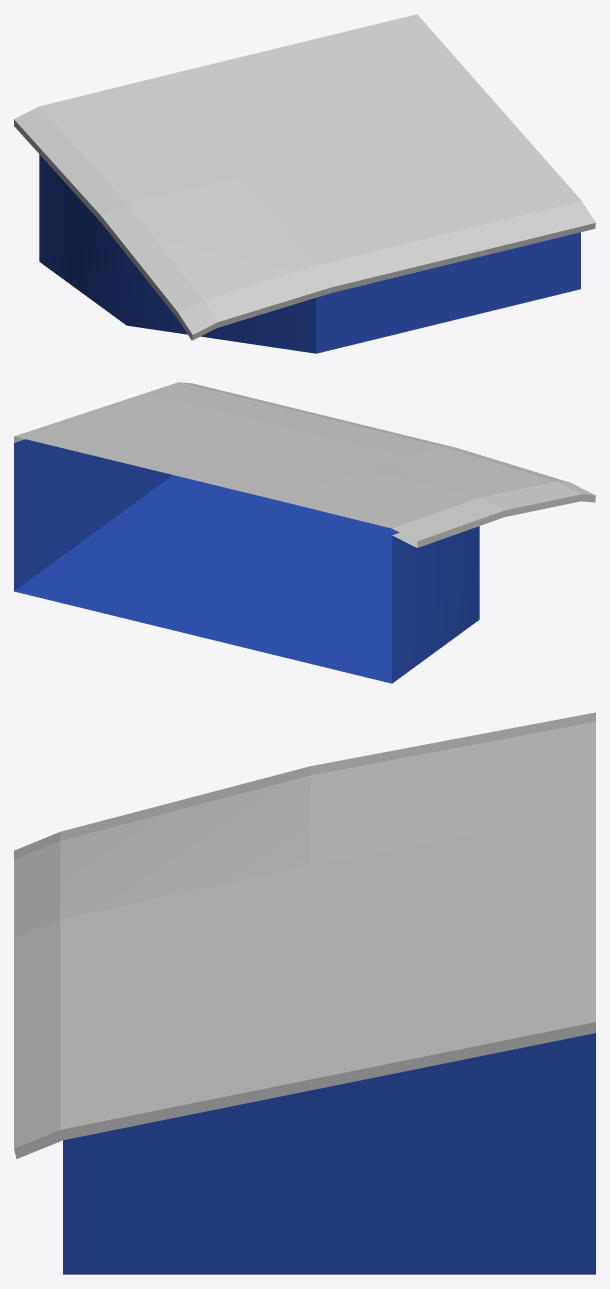
Rendered from SM_Ext_FishMarketRoof.fbx.
3 renders of one model, top to bottom at view 1: azimuth 30°, elevation 25°; view 2: azimuth 150°, elevation 25°; view 3: azimuth 270°, elevation 25°, orthographic. The views are drawn at different scales.
Parts seen in each view (by area): view 1: Box070; view 2: Box070; view 3: Box070.
Boxes of the visible parts, left/top/right/bottom form: Box070: left=14, top=14, right=595, bottom=353; Box070: left=14, top=382, right=595, bottom=683; Box070: left=14, top=712, right=595, bottom=1274.
Bounding box in the file's own units: 640 × 236 × 491.
